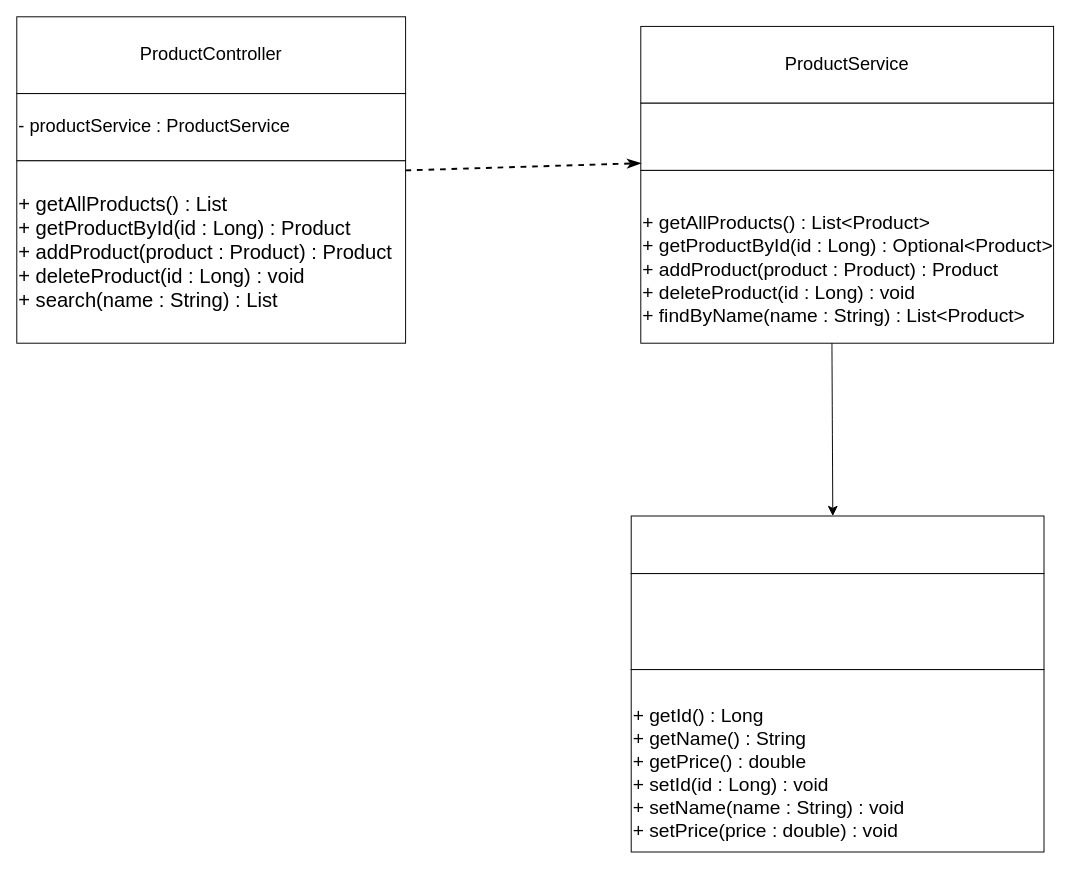
Image size: 1070x869. Some labels were removed from this diagram. The box of each missing label's shape, as (x1, y1, x2, y2) in pixels:
- products : List - nextId : Long: (640, 102, 1054, 170)
-id : long - name : String -price : double: (630, 573, 1044, 670)
Product: (630, 515, 1044, 574)
